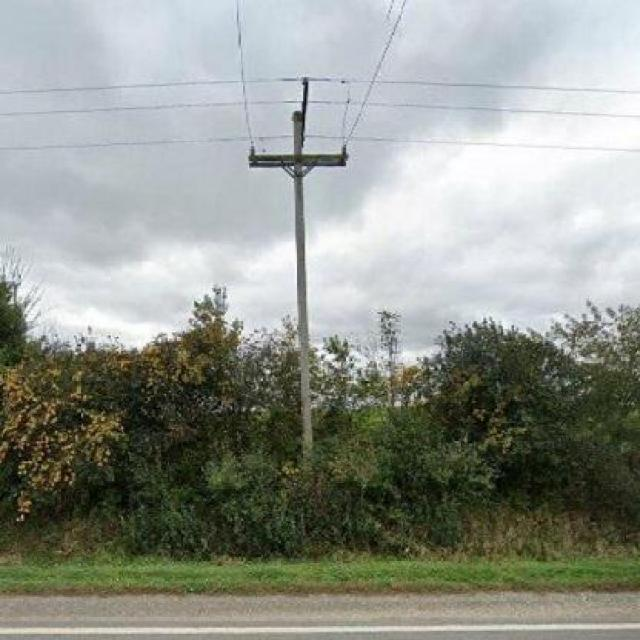pole: (238, 72, 356, 445)
